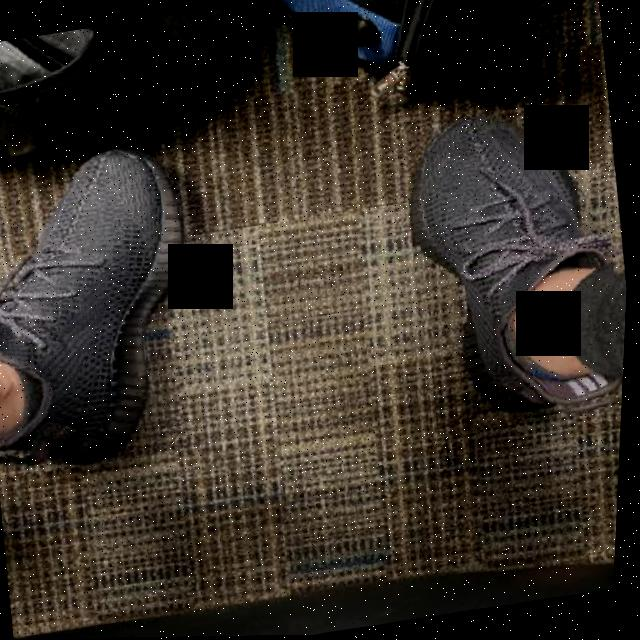shoe: (391, 97, 636, 441), (0, 136, 221, 479)
